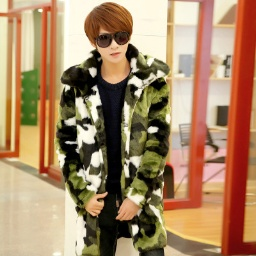face: (85, 1, 134, 63)
